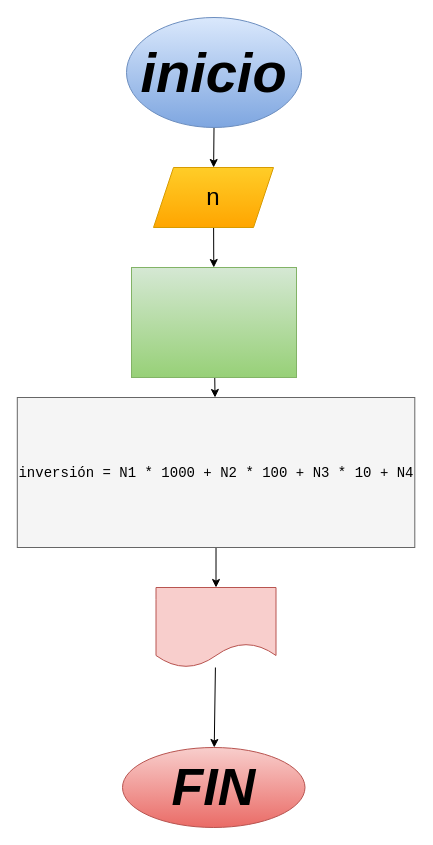
This 433x845 diagram has some shape labels left out. The box of each missing label's shape, as (x1, y1, x2, y2) in pixels:
inversión: (155, 586, 276, 668)
n1 = n % 10 n2 = ( n // 10) % 10 n3 = (n // 100) % 10 n4 = n // 1000: (130, 266, 296, 378)
